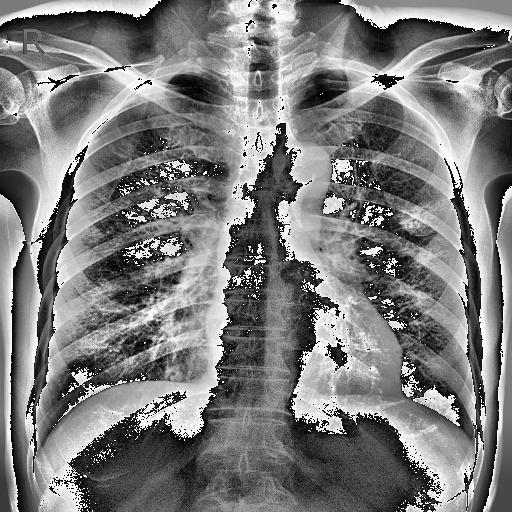0- Aortic enlargement: (278, 139, 334, 185)
13- Pulmonary fibrosis: (396, 198, 450, 230), (396, 200, 456, 228)
5- ILD: (393, 199, 457, 265)
9- Other lesion: (396, 200, 456, 228)
